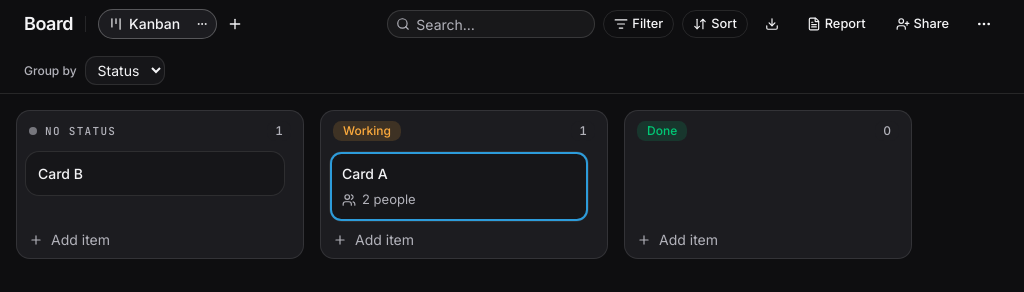
KanbanBoard quick-add (optimistic) › names the failed card in the inline error and hands the text back
The image size is (1024, 292).
Step 1. Type "New card" into the field named "Add item to Working" → (475, 240), box [355, 230, 595, 250]
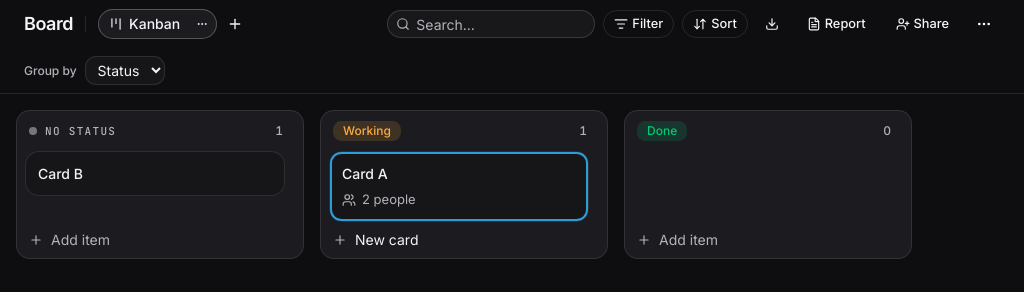
Step 2. Press Enter in the field named "Add item to Working", box [355, 230, 595, 250]
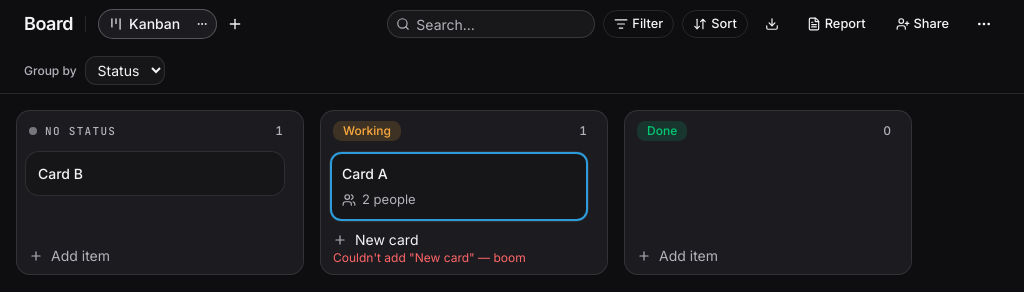
expect the message reads "Couldn't add \"New card\" — boom": met, box [333, 250, 526, 265]
